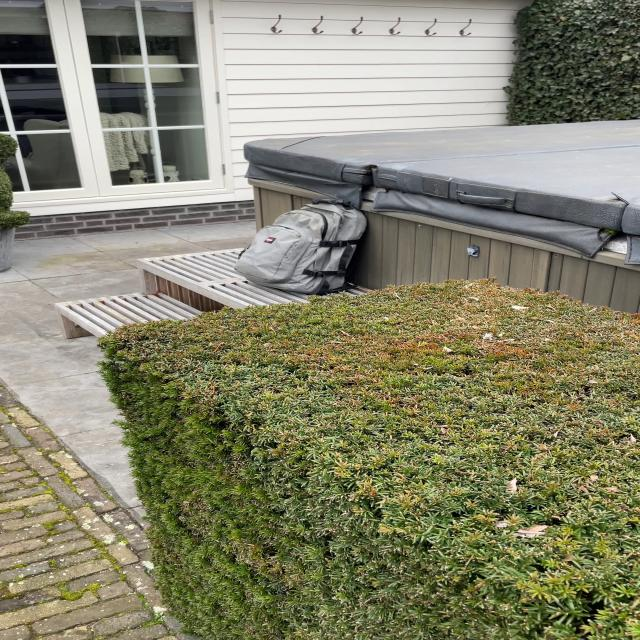backpack: (230, 195, 375, 301)
